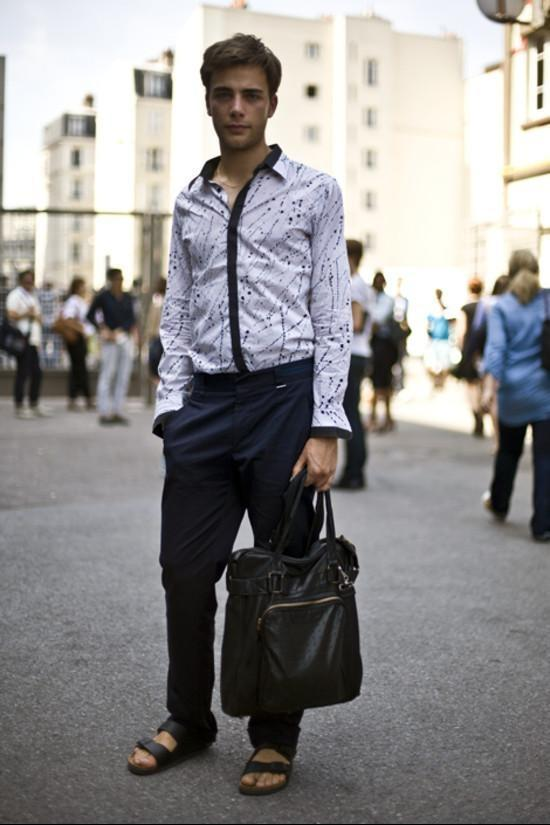pants: (160, 364, 318, 760)
shirt: (150, 141, 352, 439)
